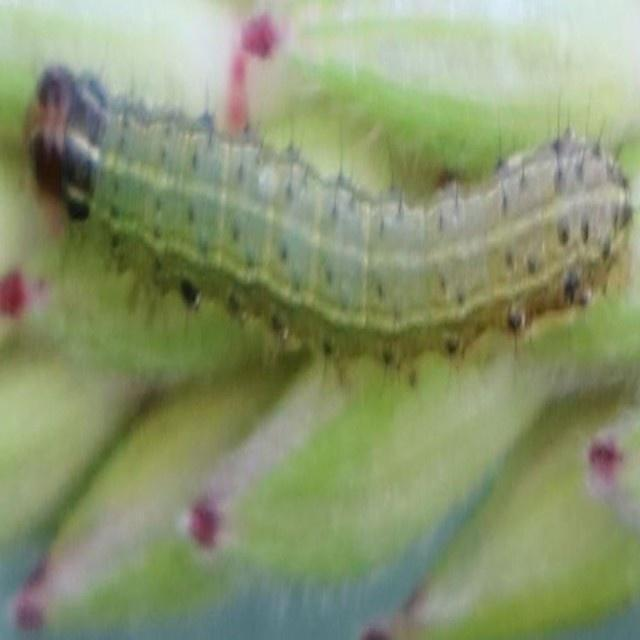gusano_cogollero: (15, 61, 640, 398)
